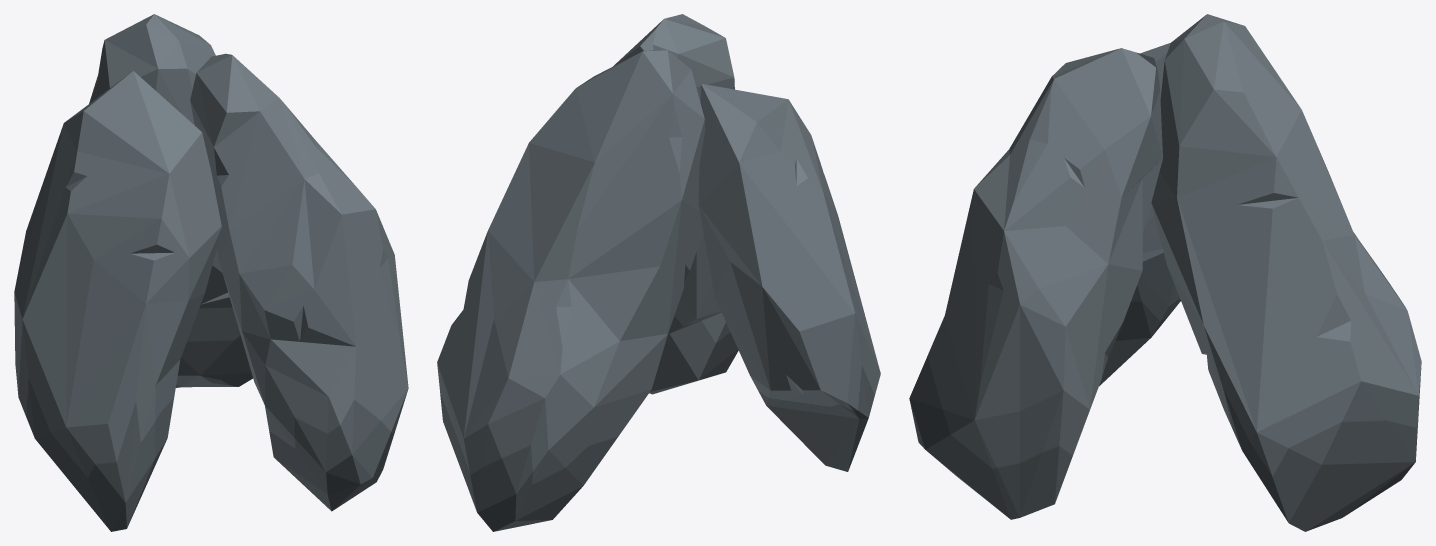
Rendered from SM_Prop_StoneStack_02.fbx.
3 views of the same model, side by side, from view 1: azimuth 30°, elevation 25°; view 2: azimuth 150°, elevation 25°; view 3: azimuth 270°, elevation 25° (orthographic). The views are drawn at different scales.
Parts seen in each view (by area): view 1: SM_Prop_StoneStack_02; view 2: SM_Prop_StoneStack_02; view 3: SM_Prop_StoneStack_02.
Boxes of the visible parts, bbox=[...] form: SM_Prop_StoneStack_02: bbox=[14, 14, 408, 531]; SM_Prop_StoneStack_02: bbox=[437, 14, 880, 531]; SM_Prop_StoneStack_02: bbox=[909, 14, 1421, 531].
Bounding box in the file's own units: 449 × 573 × 593.
Materials: 1 (1 with a texture image).
